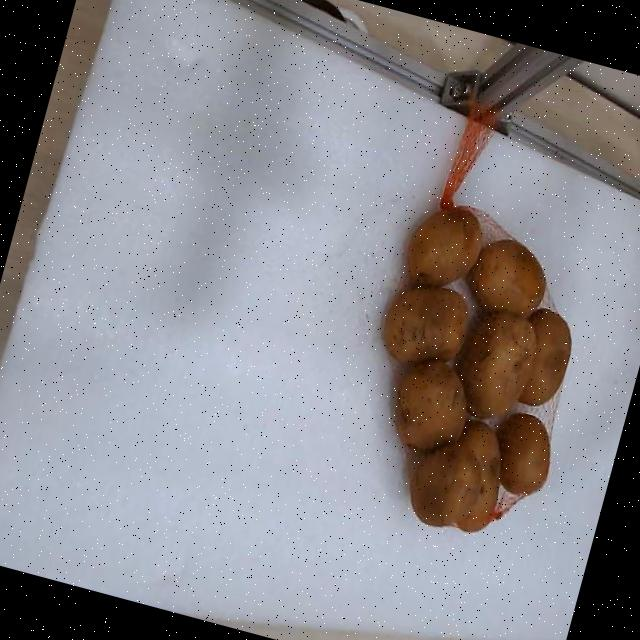potato: (408, 420, 499, 531), (455, 310, 535, 417), (382, 285, 466, 362), (395, 359, 465, 449), (466, 239, 544, 315), (405, 208, 481, 285), (517, 308, 570, 404), (496, 413, 549, 494), (408, 444, 455, 525)
